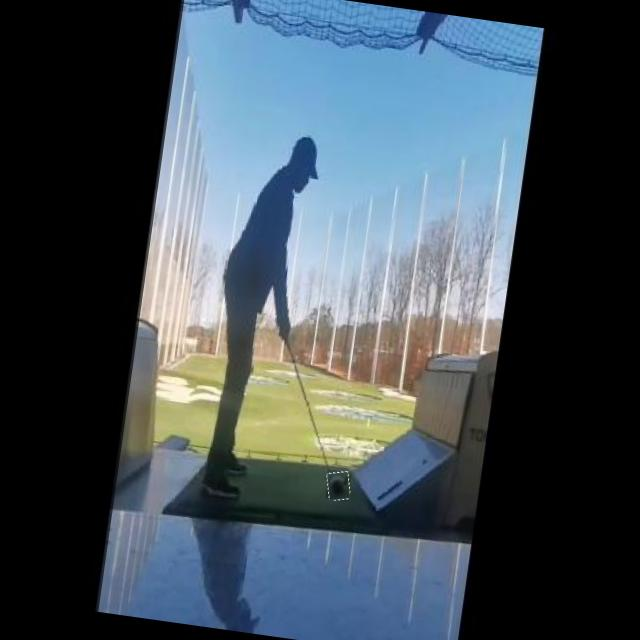club head: (325, 469, 352, 502)
